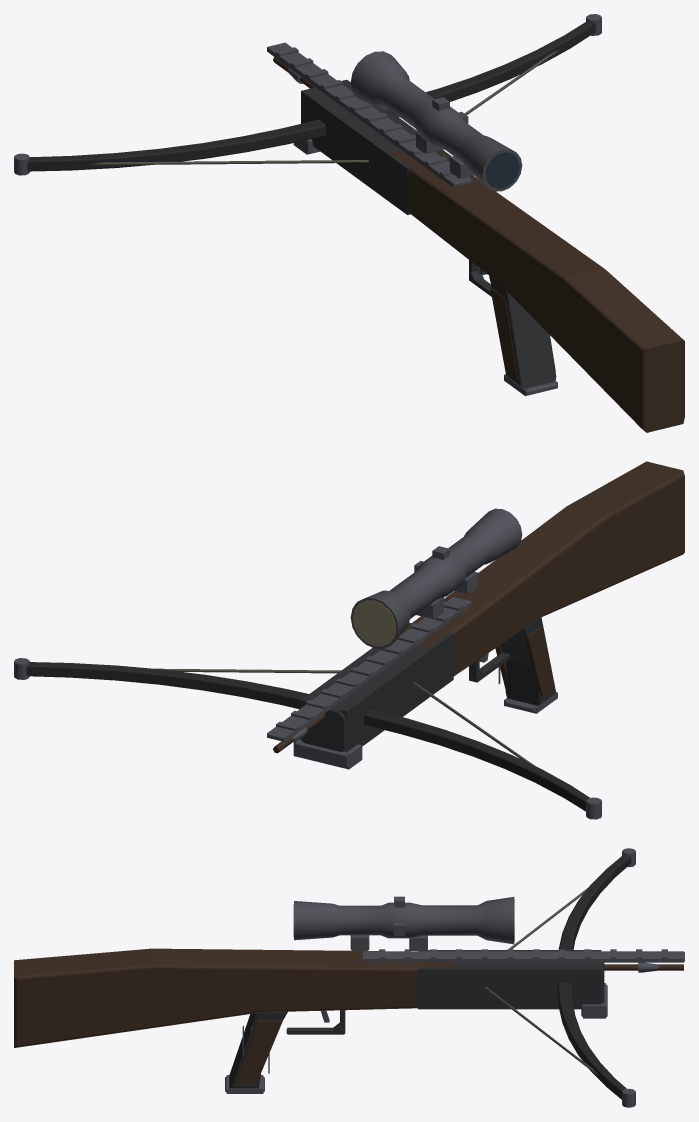
Rendered from xbow.glb.
3 renders of one model, top to bottom at view 1: azimuth 30°, elevation 25°; view 2: azimuth 150°, elevation 25°; view 3: azimuth 270°, elevation 25°, orthographic. The views are drawn at different scales.
Parts seen in each view (by area): view 1: L0, L1; view 2: L0, L1; view 3: L0, L1.
Boxes of the visible parts, bbox=[...] form: L0: bbox=[14, 14, 684, 432]; L1: bbox=[14, 14, 601, 395]; L0: bbox=[14, 461, 684, 819]; L1: bbox=[14, 508, 601, 819]; L0: bbox=[14, 848, 684, 1107]; L1: bbox=[226, 849, 683, 1107].
Bounding box in the file's own units: 0.635 × 0.226 × 0.731.
